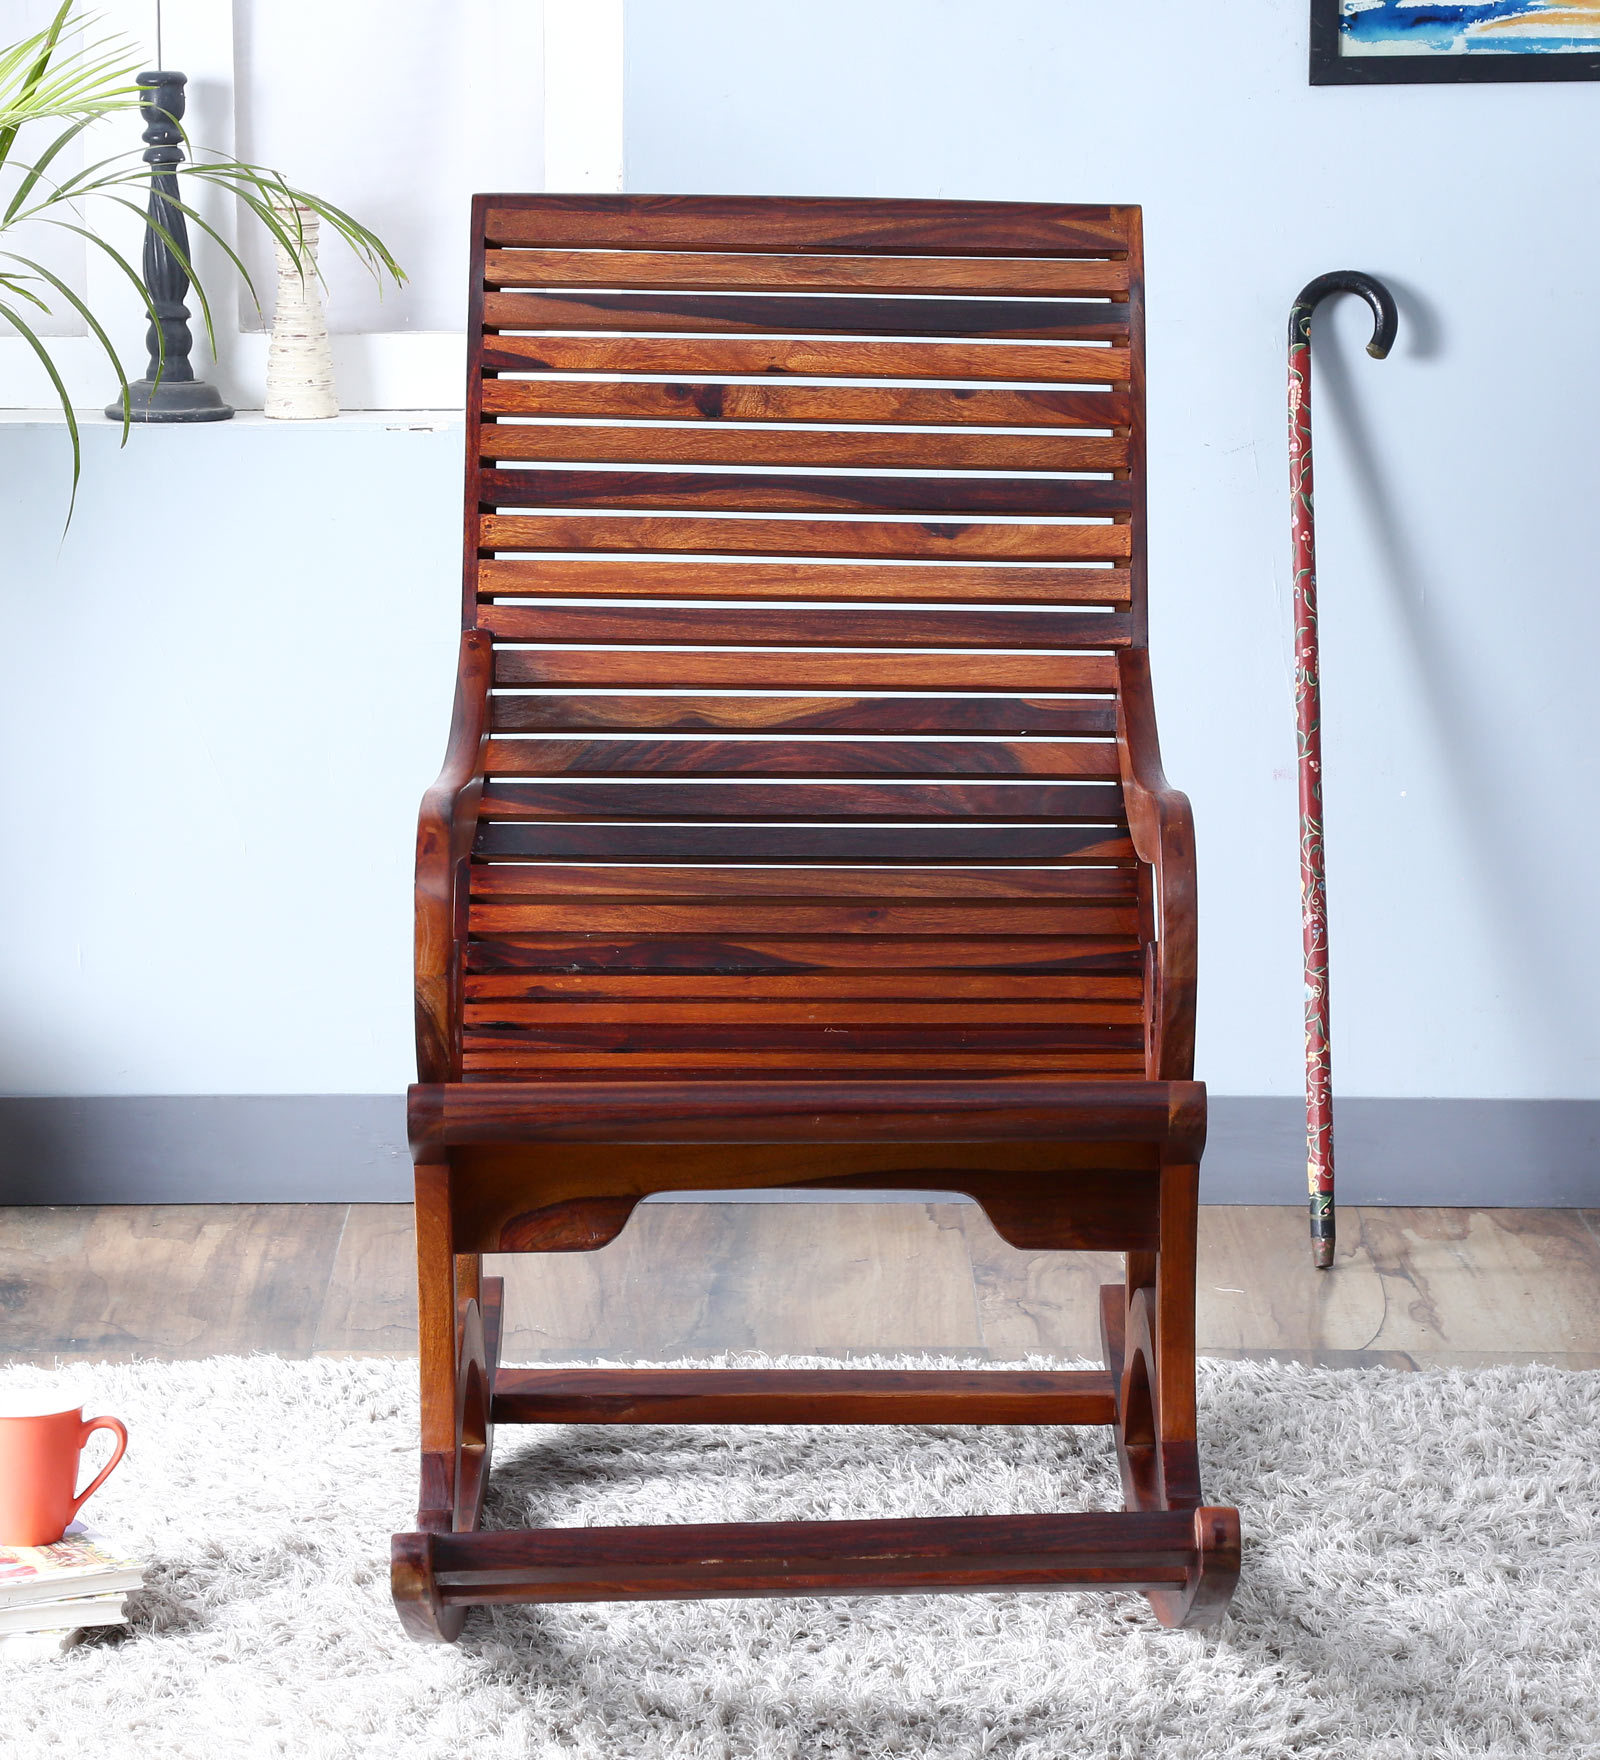Wellesley Rocking Chair in Honey Oak Finish by Amberville: (349, 159, 1286, 1653)
